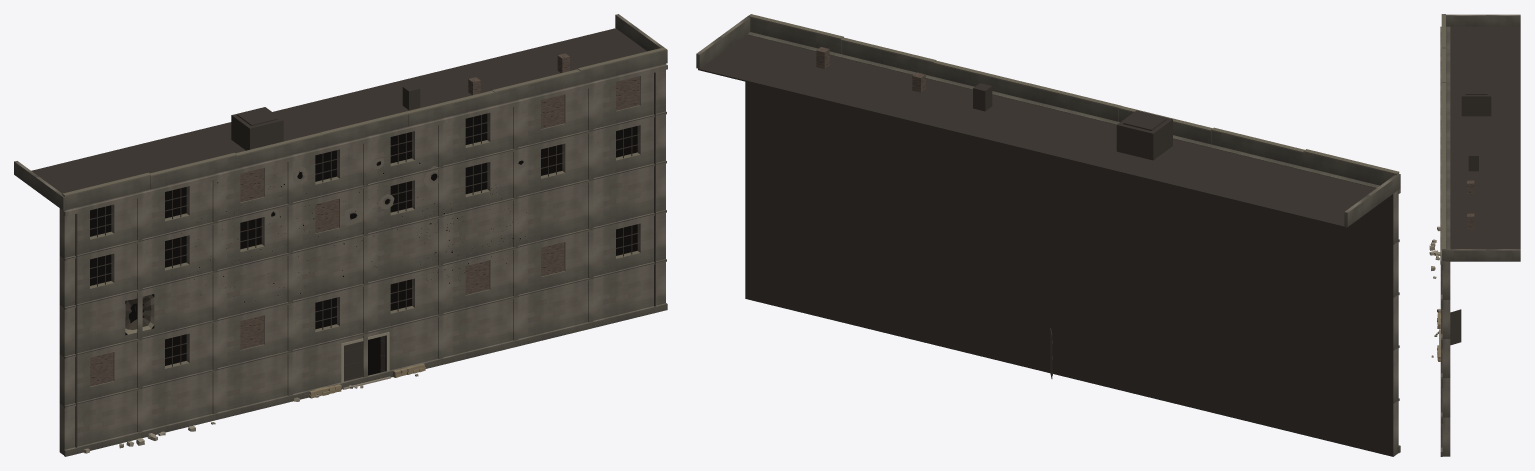
The model's file is warehouse-ext.glb.
3 renders of one model, left to right at view 1: azimuth 30°, elevation 25°; view 2: azimuth 150°, elevation 25°; view 3: azimuth 270°, elevation 25°, orthographic. The views are drawn at different scales.
Visible parts, largest first — view 1: warehouse-ext; view 2: warehouse-ext; view 3: warehouse-ext.
Part boxes in pixels (box(x1,y1,x2,y2)): warehouse-ext: box(14, 14, 667, 456); warehouse-ext: box(696, 14, 1400, 456); warehouse-ext: box(1429, 14, 1520, 456).
Bounding box in the file's own units: 64.34 × 27.71 × 10.53.
Materials: 11 (2 with a texture image).
